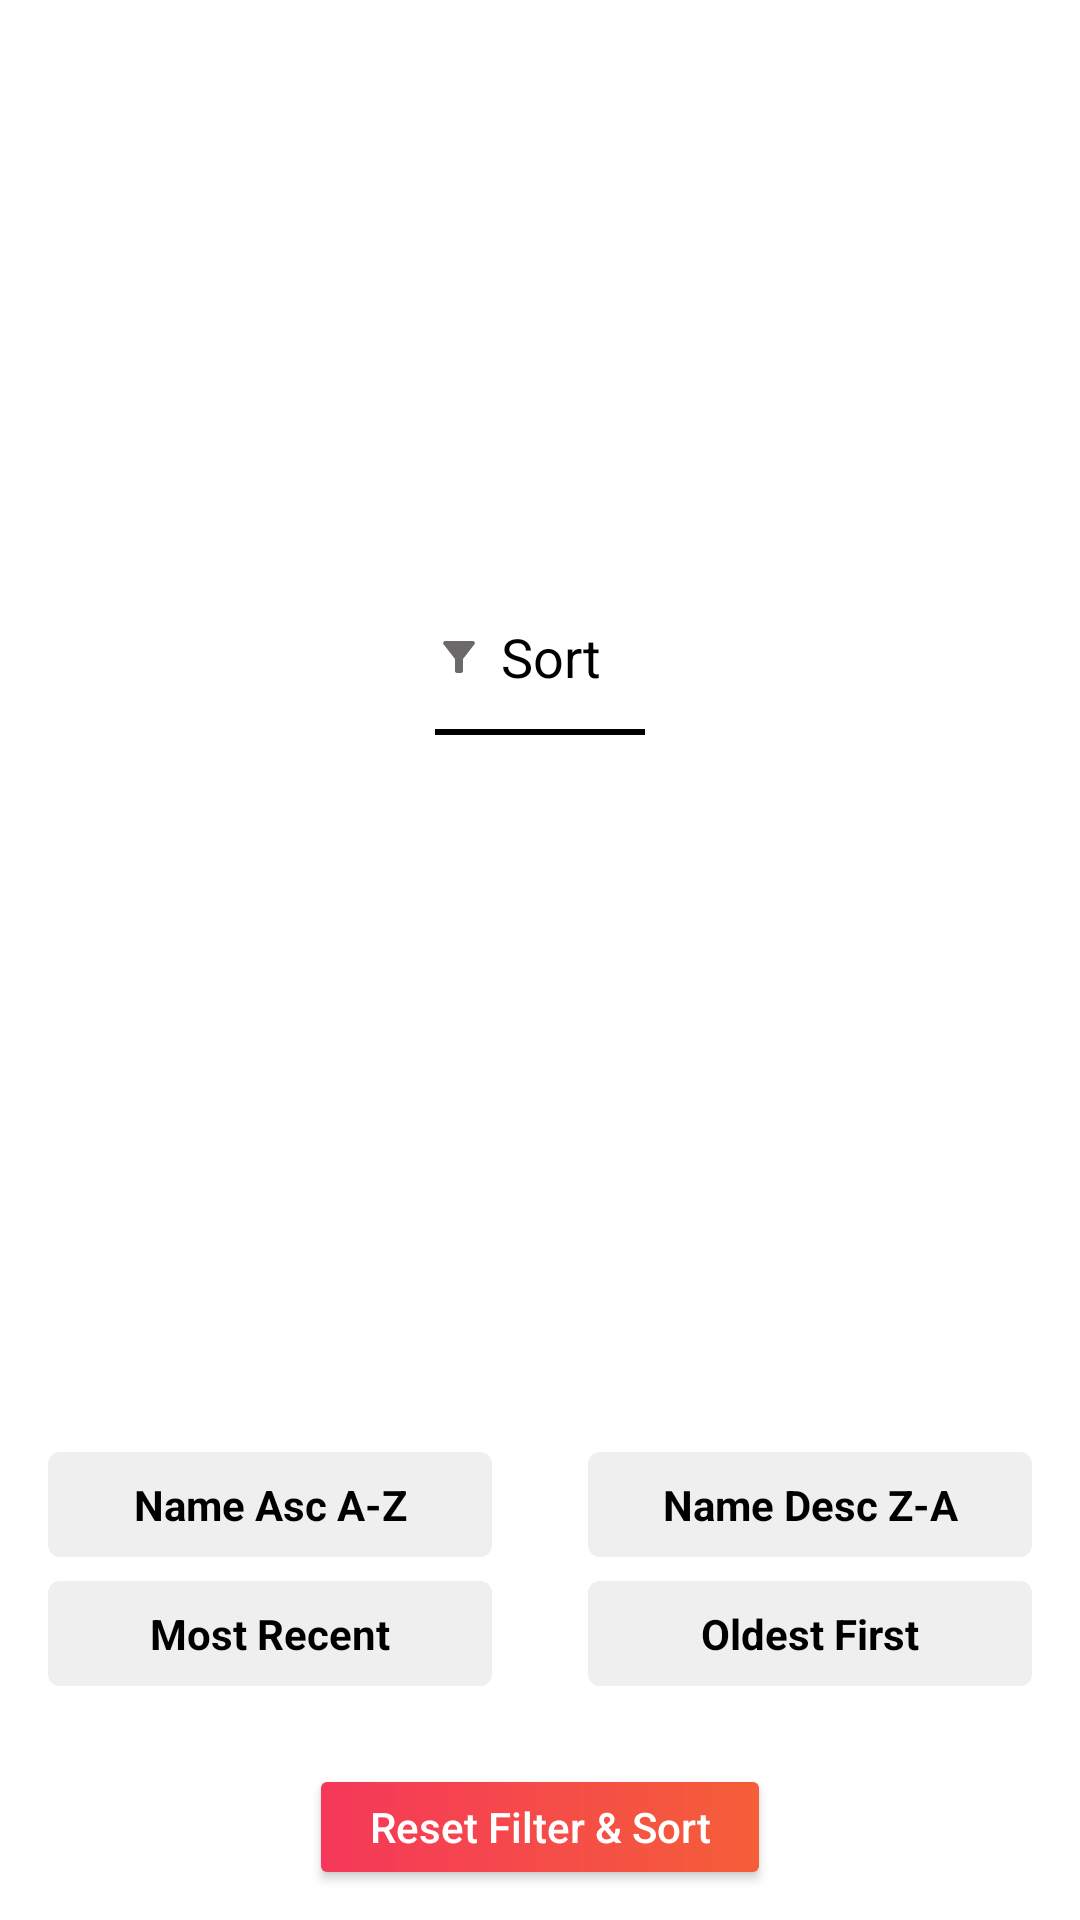

Named icons in this screenshot (1080×1920) and their centers, (x,y):
filter: (459,657)
